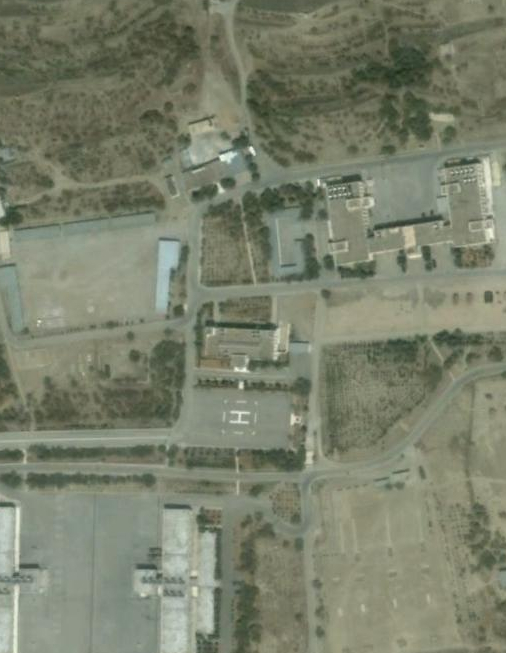heliport: (227, 407, 251, 425)
